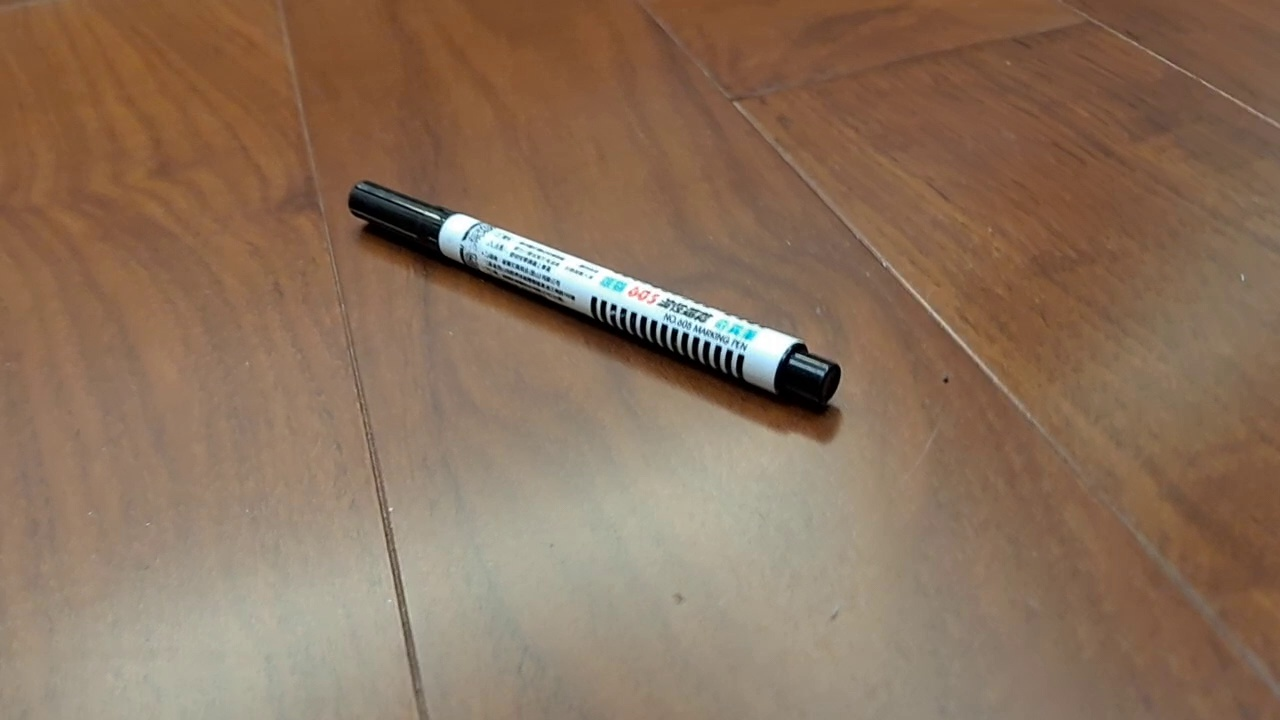pen: (347, 178, 843, 409)
